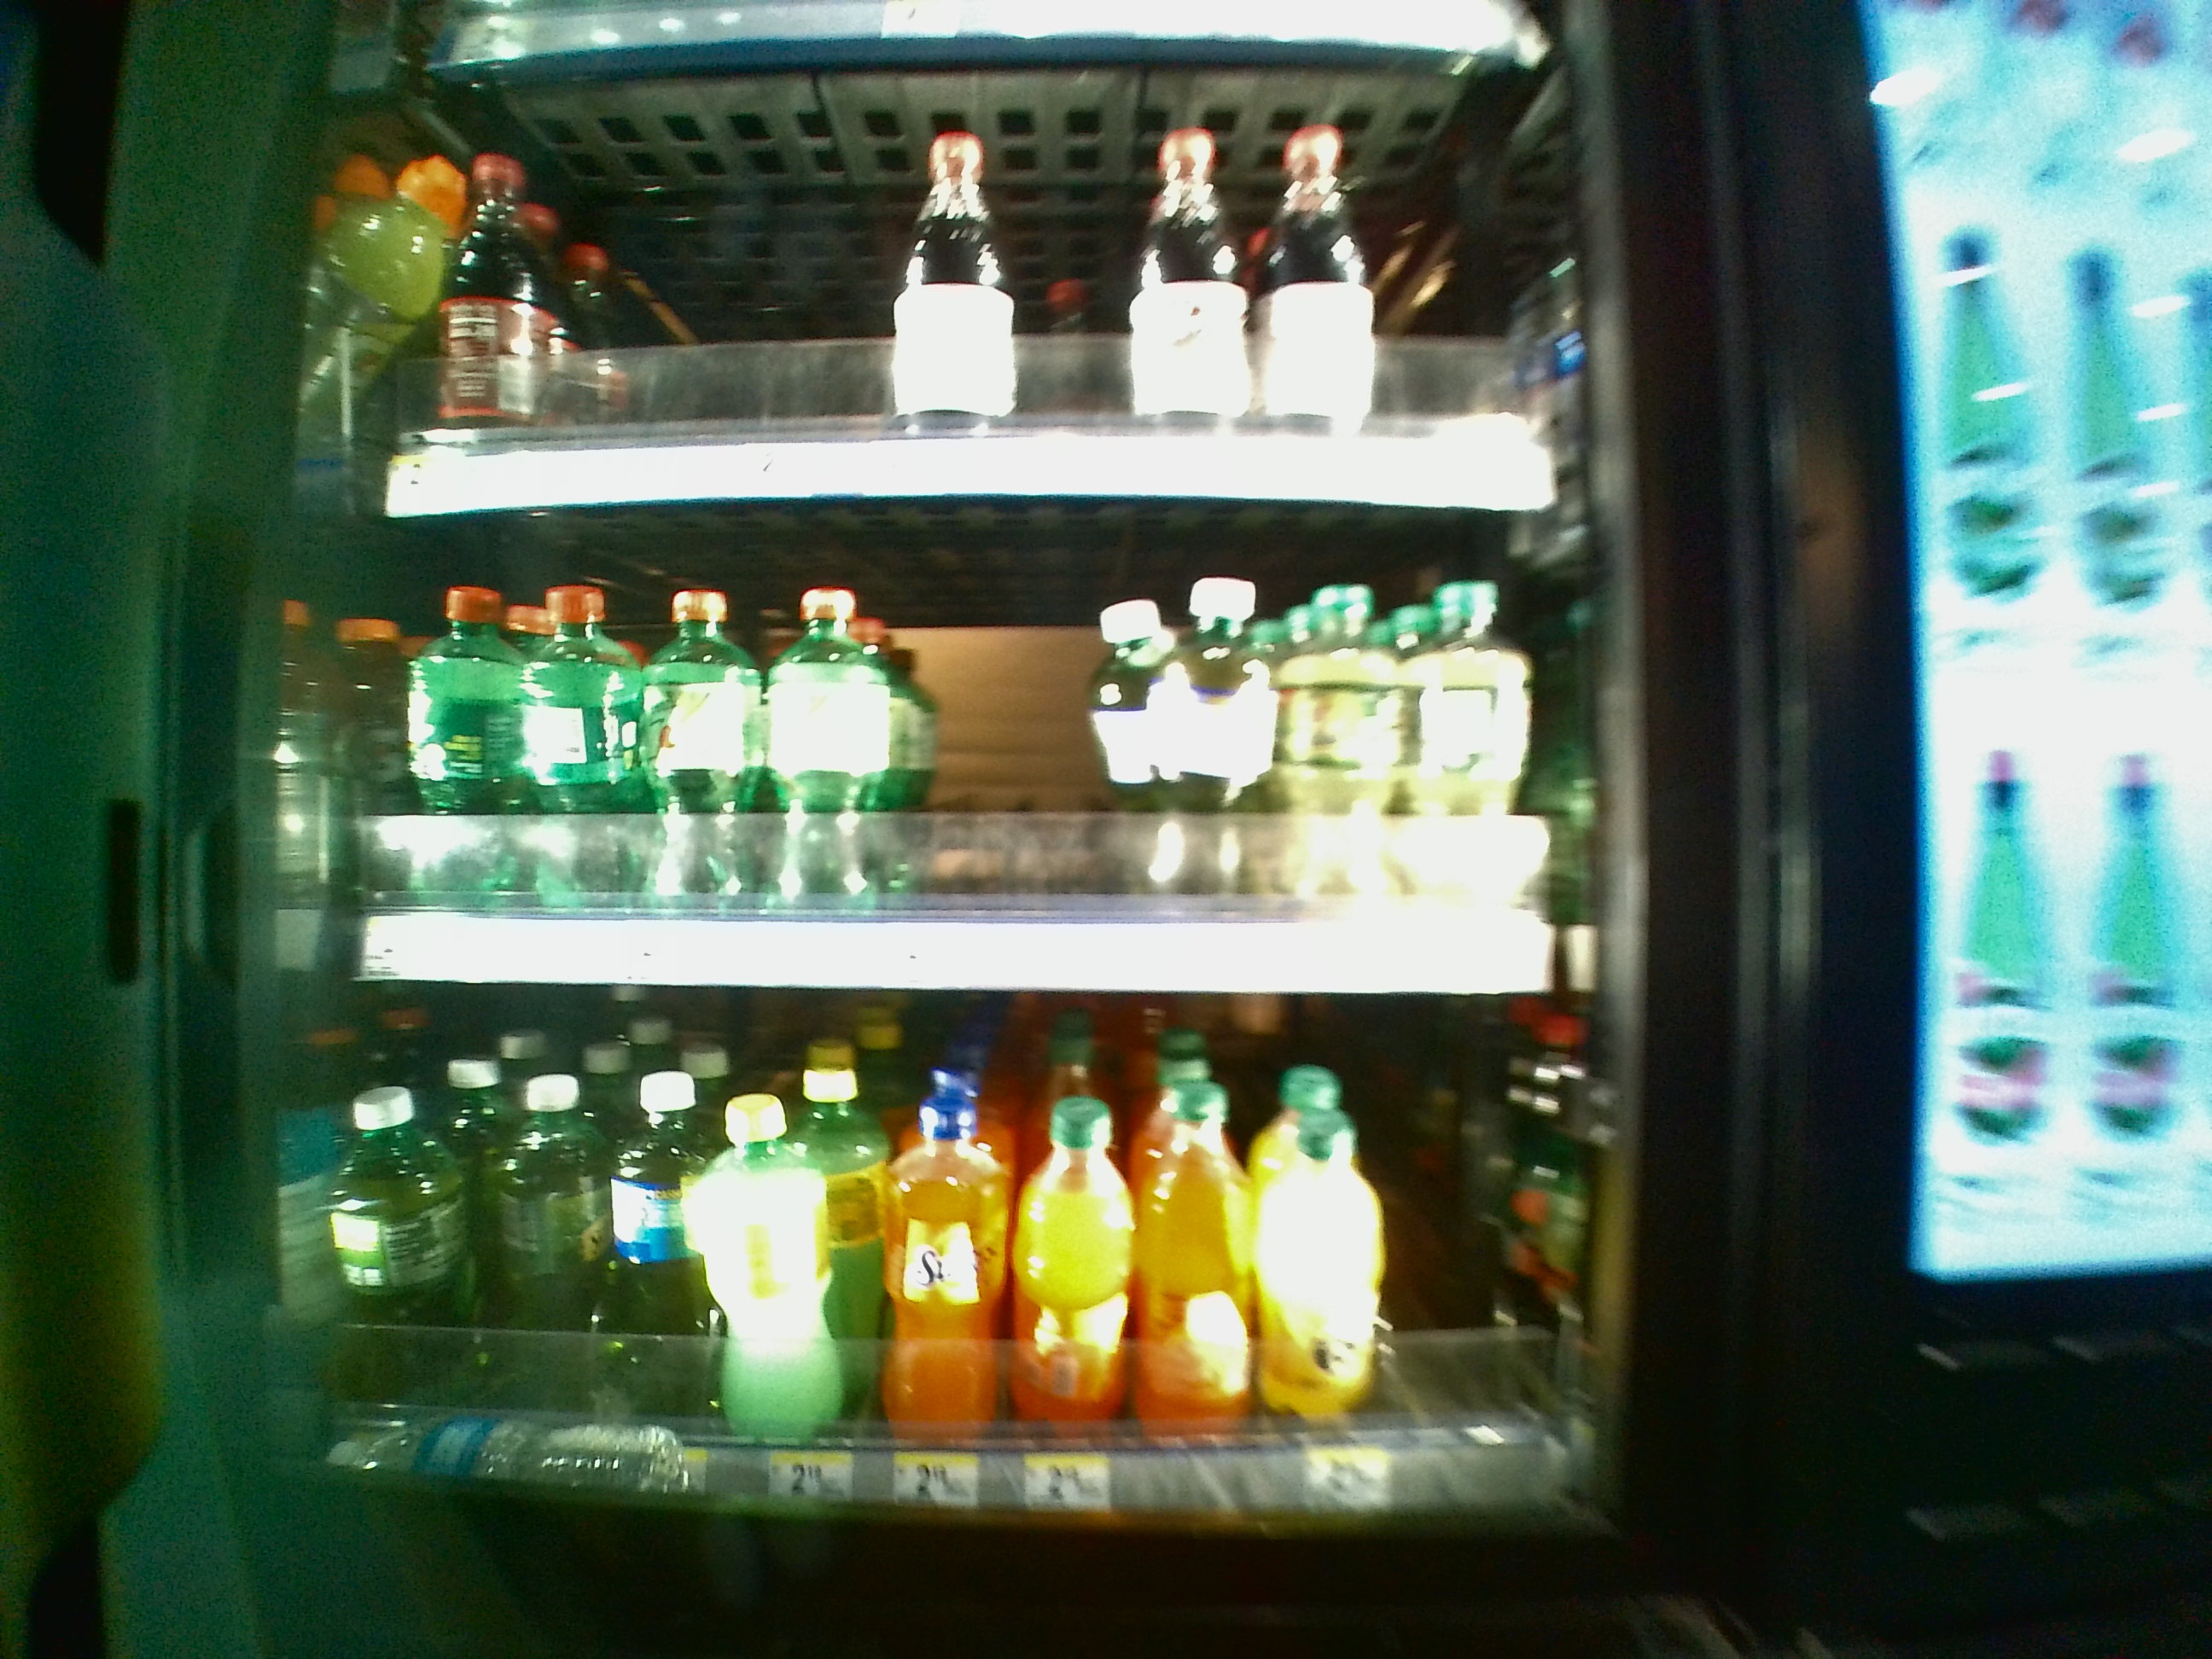shelf: (336, 990, 1601, 1527), (336, 516, 1587, 990)
